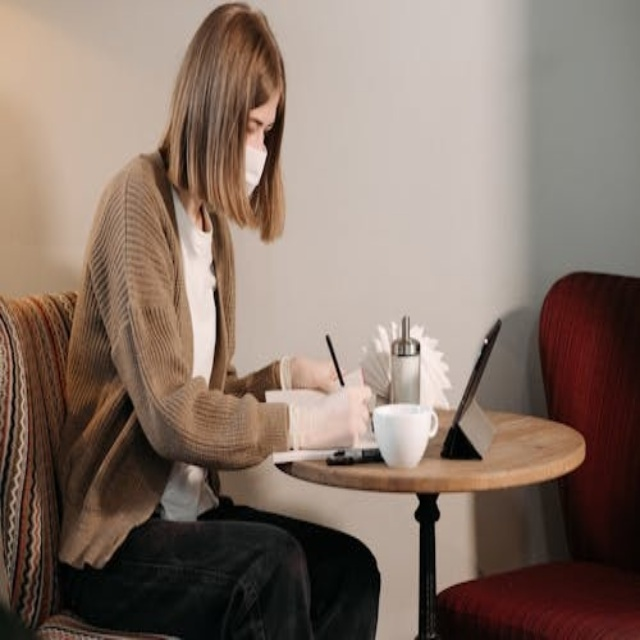Mascara: (243, 139, 268, 199)
Sin_gafas: (242, 98, 279, 136)
Sin_guantes: (311, 382, 376, 449), (284, 354, 347, 395)
